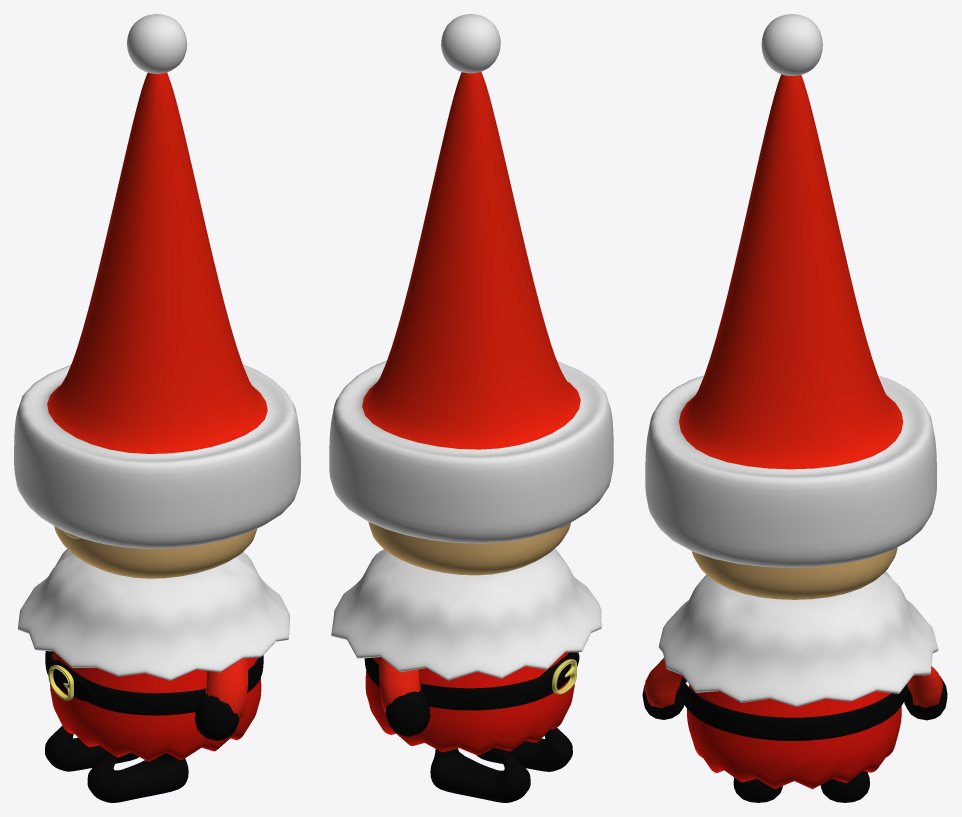
The model's file is Minion.fbx.
The picture shows the model from 3 angles, left to right: view 1: azimuth 30°, elevation 25°; view 2: azimuth 150°, elevation 25°; view 3: azimuth 270°, elevation 25°; orthographic projection. The views are drawn at different scales.
Visible parts, largest first — view 1: Hat, Body, Right leg, Right hand, Left leg; view 2: Hat, Body, Left leg, Left hand, Right leg; view 3: Hat, Body, Right hand, Left hand, Left leg, Right leg.
Boxes of the visible parts, <box> form: Hat: <box>14,14,300,548</box>; Body: <box>18,526,289,761</box>; Right leg: <box>87,753,188,802</box>; Right hand: <box>195,658,247,740</box>; Left leg: <box>45,725,138,771</box>; Hat: <box>329,14,613,543</box>; Body: <box>331,521,601,755</box>; Left leg: <box>430,748,530,802</box>; Left hand: <box>379,657,430,736</box>; Right leg: <box>476,728,572,771</box>; Hat: <box>645,14,936,567</box>; Body: <box>658,547,938,789</box>; Right hand: <box>642,658,684,719</box>; Left hand: <box>904,666,947,720</box>; Left leg: <box>820,771,869,802</box>; Right leg: <box>733,777,782,802</box>.
Bounding box in the file's own units: 1.83 × 5.46 × 1.92.
